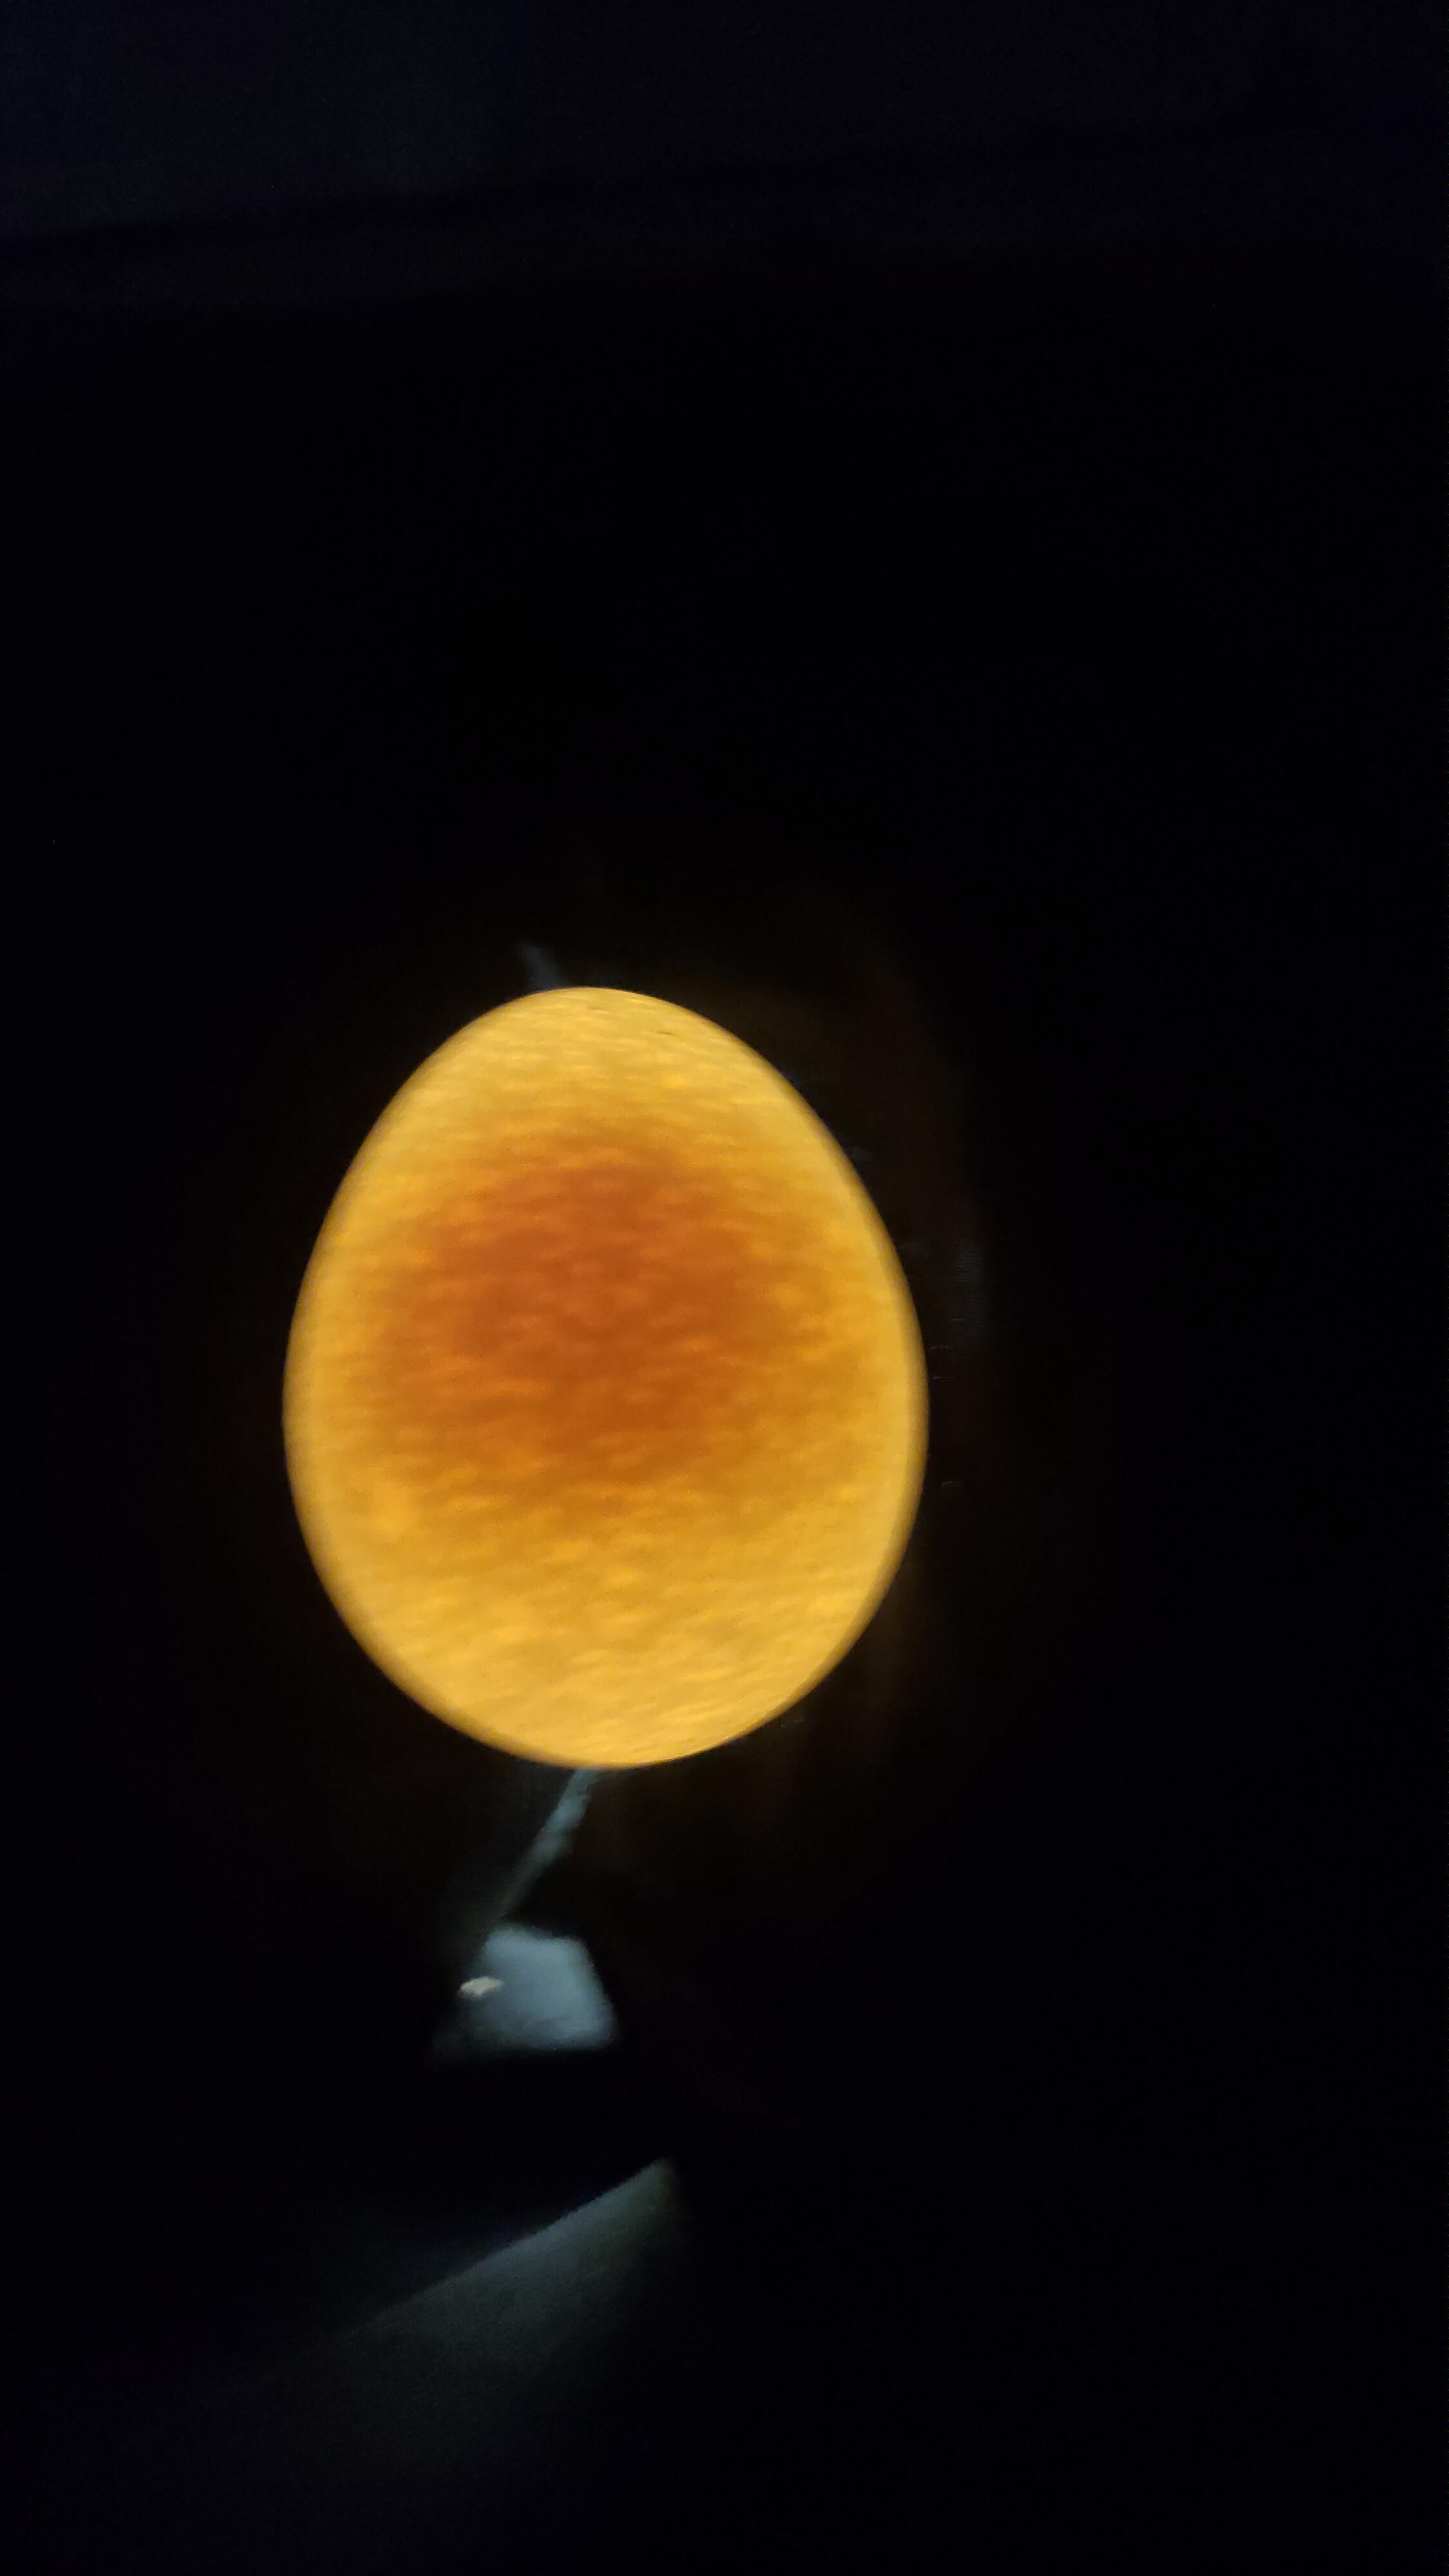A - Good: (251, 954, 973, 1822)
